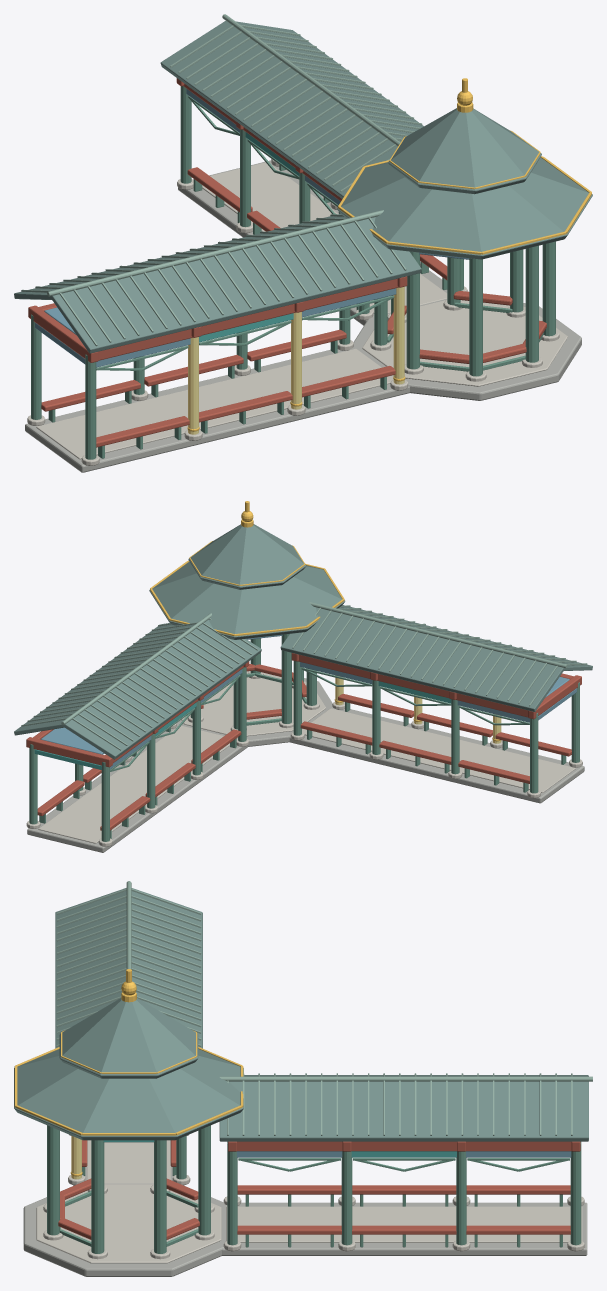
File: LongCorridor_PavilionCorner_Stylized.fbx
The picture shows the model from 3 angles, top to bottom: view 1: azimuth 30°, elevation 25°; view 2: azimuth 150°, elevation 25°; view 3: azimuth 270°, elevation 25°; orthographic projection. The views are drawn at different scales.
Parts seen in each view (by area): view 1: Left_GableRoof, LakeTurn_GableRoof, Pavilion_LowerRoof, Left_FloorInset, Pavilion_UpperRoof, Pavilion_FloorInset, Left_Floor, LakeTurn_FloorInset, Pavilion_StonePlinth, Left_GableRoof_Ridge, Pavilion_Pillar_05, Pavilion_Pillar_06 (+28 smaller); view 2: Left_GableRoof, LakeTurn_GableRoof, Pavilion_LowerRoof, Left_FloorInset, LakeTurn_FloorInset, Pavilion_UpperRoof, Left_Floor, Pavilion_FloorInset, LakeTurn_Floor, Left_GableRoof_Ridge, LakeTurn_CrossBeam_03, Pavilion_StonePlinth (+24 smaller); view 3: LakeTurn_GableRoof, Pavilion_LowerRoof, Left_GableRoof, LakeTurn_FloorInset, Pavilion_UpperRoof, Pavilion_FloorInset, LakeTurn_Floor, Pavilion_StonePlinth, Left_FloorInset, LakeTurn_GableRoof_Ridge, Pavilion_Pillar_07, Pavilion_Pillar_00 (+19 smaller).
Part boxes in pixels (<box>): Left_GableRoof: <box>14,214,421,353</box>; LakeTurn_GableRoof: <box>160,21,423,198</box>; Pavilion_LowerRoof: <box>337,158,592,259</box>; Left_FloorInset: <box>36,348,393,459</box>; Pavilion_UpperRoof: <box>388,108,541,194</box>; Pavilion_FloorInset: <box>362,299,567,386</box>; Left_Floor: <box>25,349,409,472</box>; LakeTurn_FloorInset: <box>202,162,447,313</box>; Pavilion_StonePlinth: <box>349,299,581,400</box>; Left_GableRoof_Ridge: <box>47,210,383,296</box>; Pavilion_Pillar_05: <box>469,258,482,376</box>; Pavilion_Pillar_06: <box>525,245,538,362</box>; Left_GableRoof: <box>280,605,592,711</box>; LakeTurn_GableRoof: <box>14,620,261,759</box>; Pavilion_LowerRoof: <box>149,562,345,639</box>; Left_FloorInset: <box>302,708,575,792</box>; LakeTurn_FloorInset: <box>38,725,229,843</box>; Pavilion_UpperRoof: <box>188,524,306,589</box>; Left_Floor: <box>289,709,584,803</box>; Pavilion_FloorInset: <box>181,671,325,736</box>; LakeTurn_Floor: <box>27,728,248,852</box>; Left_GableRoof_Ridge: <box>309,602,567,668</box>; LakeTurn_CrossBeam_03: <box>26,737,112,767</box>; Pavilion_StonePlinth: <box>175,678,336,746</box>; LakeTurn_GableRoof: <box>219,1075,588,1141</box>; Pavilion_LowerRoof: <box>14,1049,243,1140</box>; Left_GableRoof: <box>55,888,202,1048</box>; LakeTurn_FloorInset: <box>226,1206,582,1242</box>; Pavilion_UpperRoof: <box>59,998,198,1078</box>; Pavilion_FloorInset: <box>36,1184,221,1263</box>; LakeTurn_Floor: <box>222,1202,587,1255</box>; Pavilion_StonePlinth: <box>23,1183,227,1276</box>; Left_FloorInset: <box>87,1140,170,1183</box>; LakeTurn_GableRoof_Ridge: <box>219,1076,592,1081</box>; Pavilion_Pillar_07: <box>91,1140,104,1253</box>; Pavilion_Pillar_00: <box>154,1140,166,1253</box>.
Bounding box in the file's own units: 12.59 × 6.31 × 12.59.
